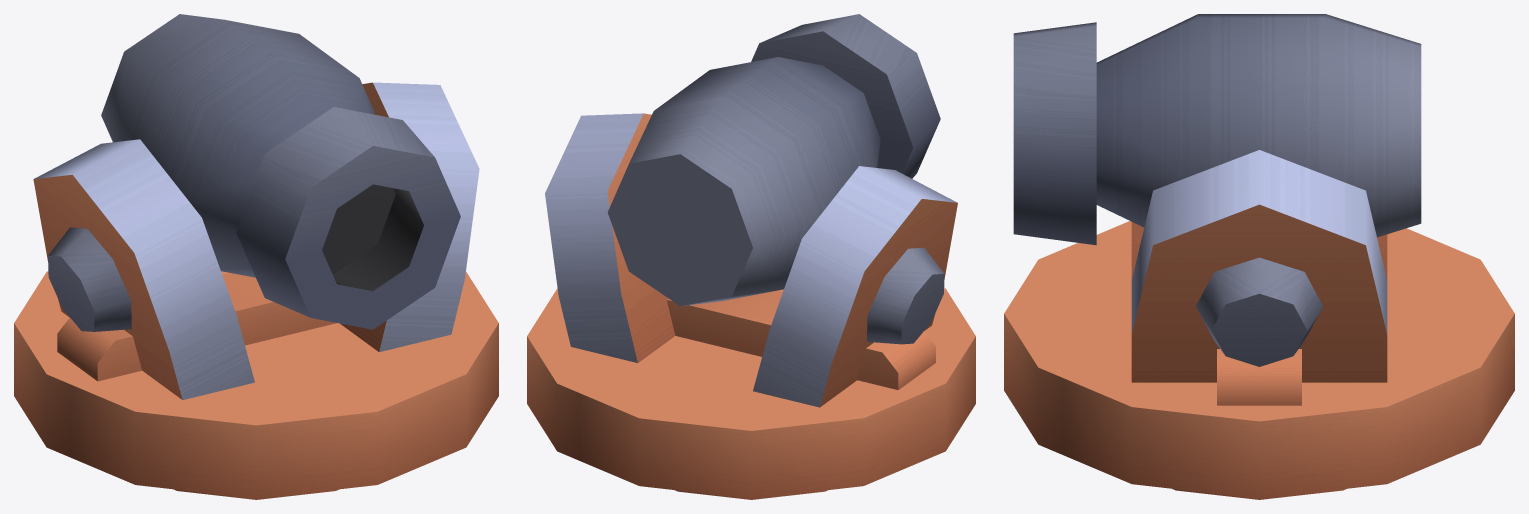
Rendered from wonder-cannon.glb.
The picture shows the model from 3 angles, left to right: view 1: azimuth 30°, elevation 25°; view 2: azimuth 150°, elevation 25°; view 3: azimuth 270°, elevation 25°; orthographic projection. The views are drawn at different scales.
Parts seen in each view (by area): view 1: weapon-cannon, barrel; view 2: weapon-cannon, barrel; view 3: weapon-cannon, barrel.
Part boxes in pixels (<box>): weapon-cannon: <box>14,82,498,499</box>; barrel: <box>101,14,460,329</box>; weapon-cannon: <box>527,113,975,499</box>; barrel: <box>607,14,940,306</box>; weapon-cannon: <box>1004,150,1514,499</box>; barrel: <box>1013,14,1421,245</box>.
Bounding box in the file's own units: 0.6 × 0.5328 × 0.6.
1 material, 1 textured.
